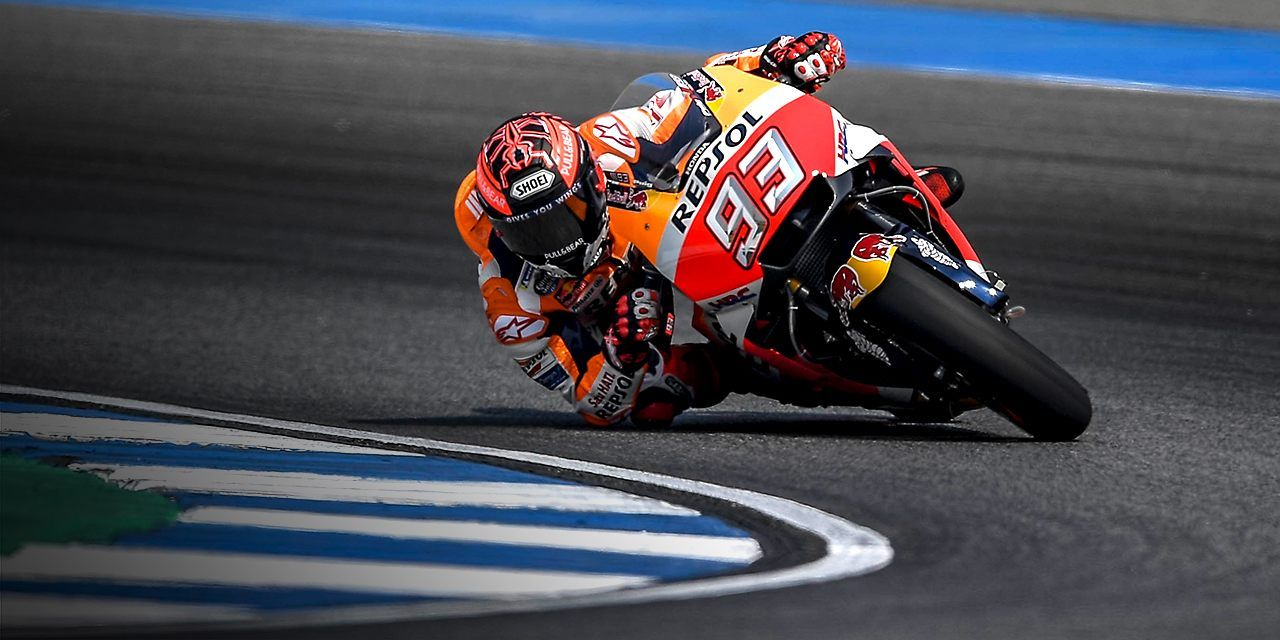helmet: (458, 103, 611, 285)
